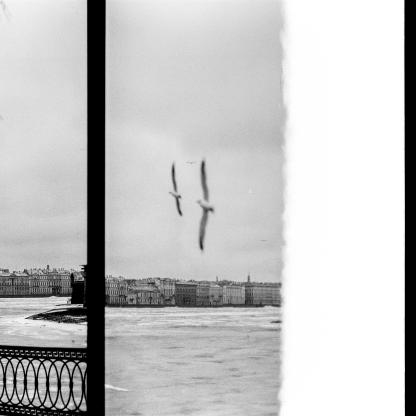bird: (195, 158, 215, 252), (168, 161, 184, 217)
